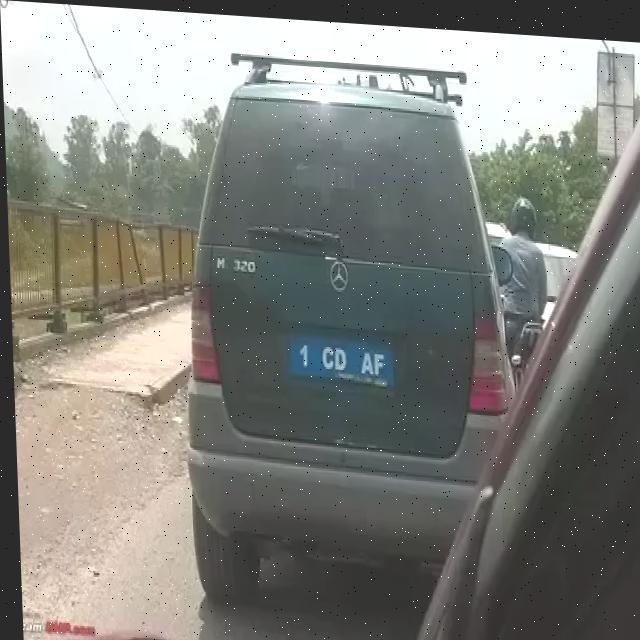plate: (285, 321, 402, 389)
